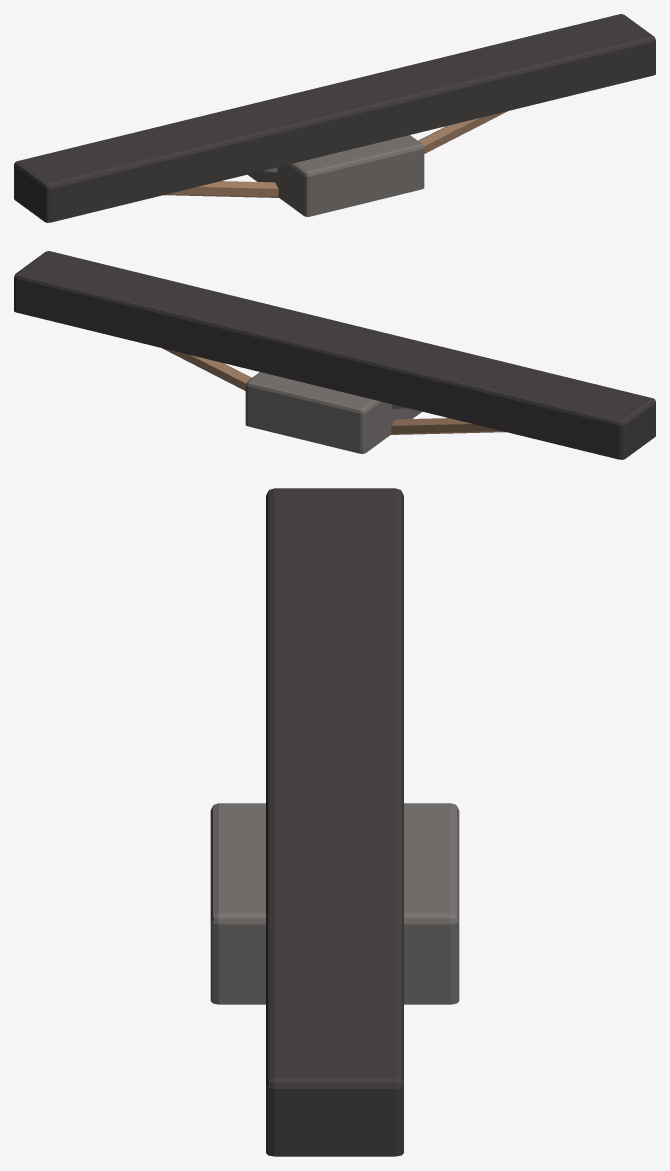
Rendered from rn2-forja-bracket.glb.
3 renders of one model, top to bottom at view 1: azimuth 30°, elevation 25°; view 2: azimuth 150°, elevation 25°; view 3: azimuth 270°, elevation 25°, orthographic. The views are drawn at different scales.
Parts seen in each view (by area): view 1: rn2_forja_bracket_body; view 2: rn2_forja_bracket_body; view 3: rn2_forja_bracket_body.
Boxes of the visible parts, x1,y1,x2,y2 form: rn2_forja_bracket_body: (14,14,655,222); rn2_forja_bracket_body: (14,251,655,459); rn2_forja_bracket_body: (210,488,459,1156).
Size of the model in its own units: 10.2 by 1.37 by 1.8.
